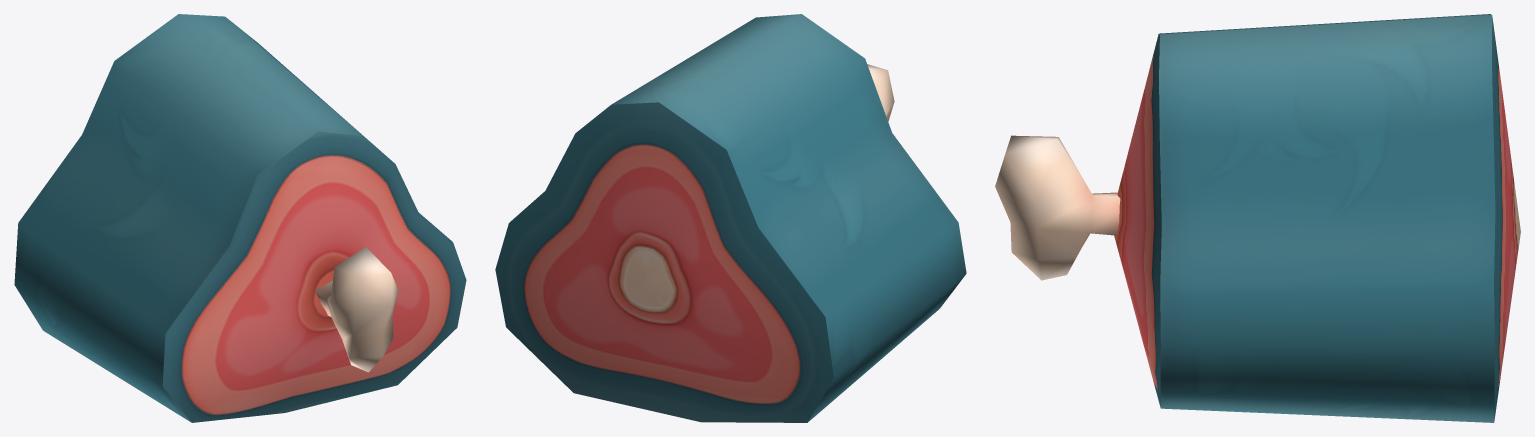
File: obj_resource_steak_lod1.fbx
The picture shows the model from 3 angles, left to right: view 1: azimuth 30°, elevation 25°; view 2: azimuth 150°, elevation 25°; view 3: azimuth 270°, elevation 25°; orthographic projection. The views are drawn at different scales.
Visible parts, largest first — view 1: obj_resource_steak_lod1; view 2: obj_resource_steak_lod1; view 3: obj_resource_steak_lod1.
Boxes of the visible parts, left/top/right/bottom form: obj_resource_steak_lod1: left=14, top=14, right=466, bottom=422; obj_resource_steak_lod1: left=495, top=14, right=966, bottom=422; obj_resource_steak_lod1: left=995, top=14, right=1520, bottom=422.
Bounding box in the file's own units: 3.18 × 2.82 × 3.73.
1 material, 1 textured.
